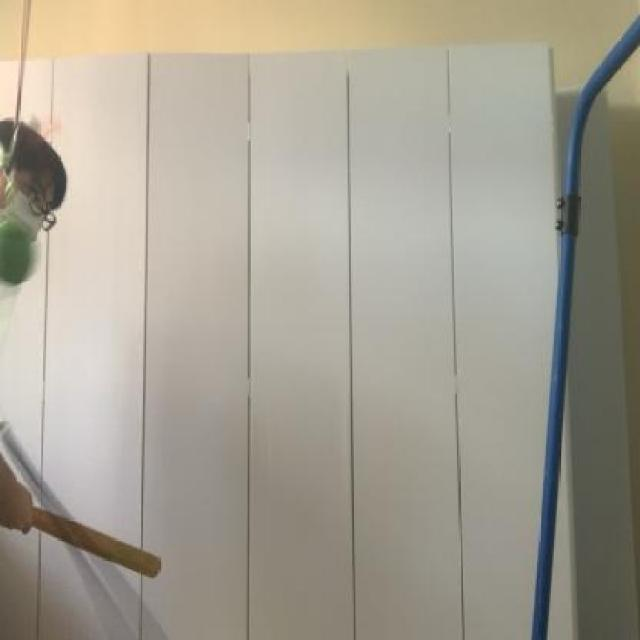baseball: (0, 208, 40, 284)
